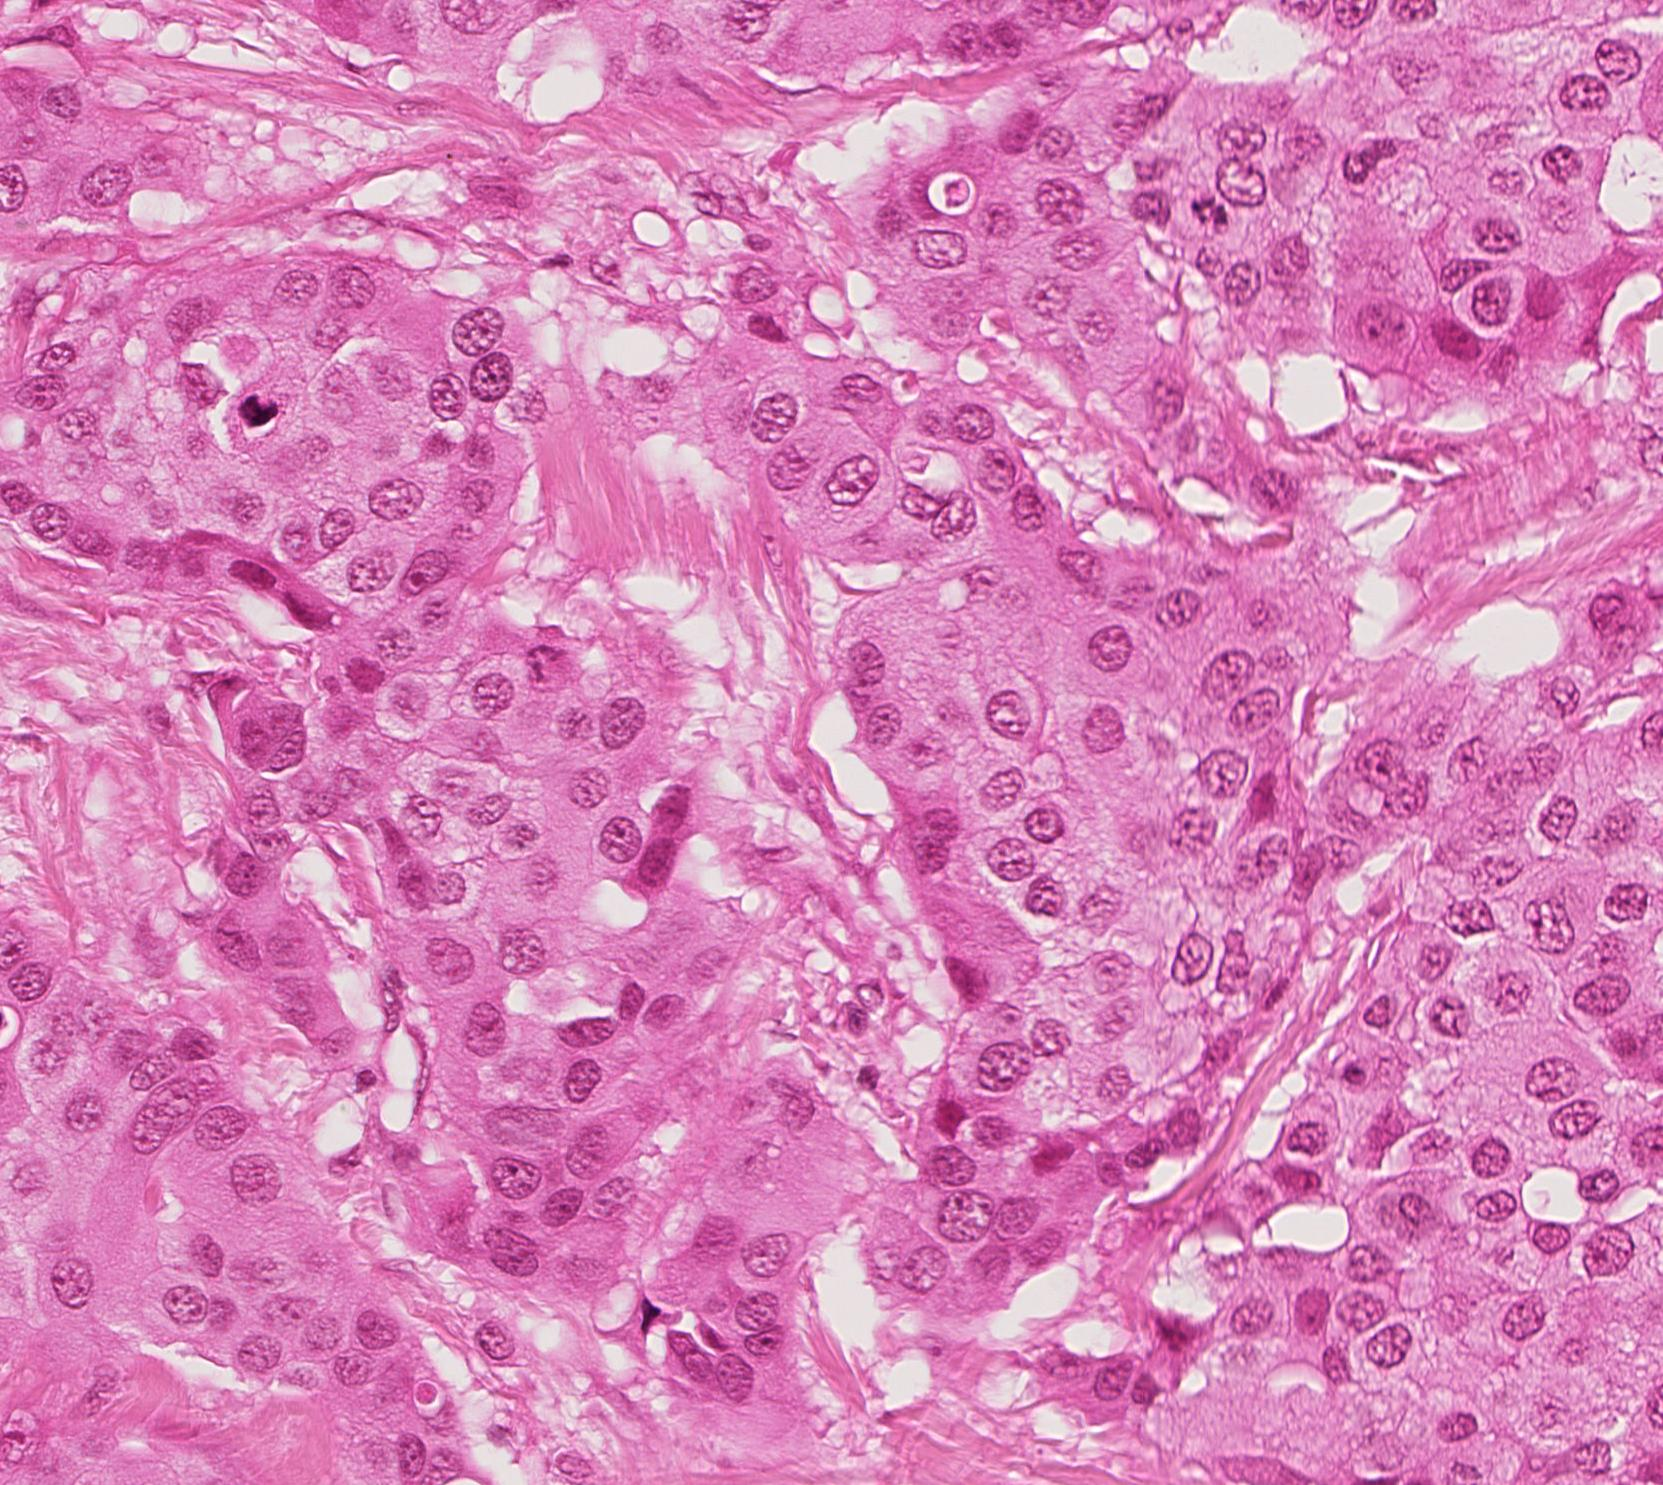mitosis: (1174, 176, 1234, 237), (515, 632, 575, 692)
